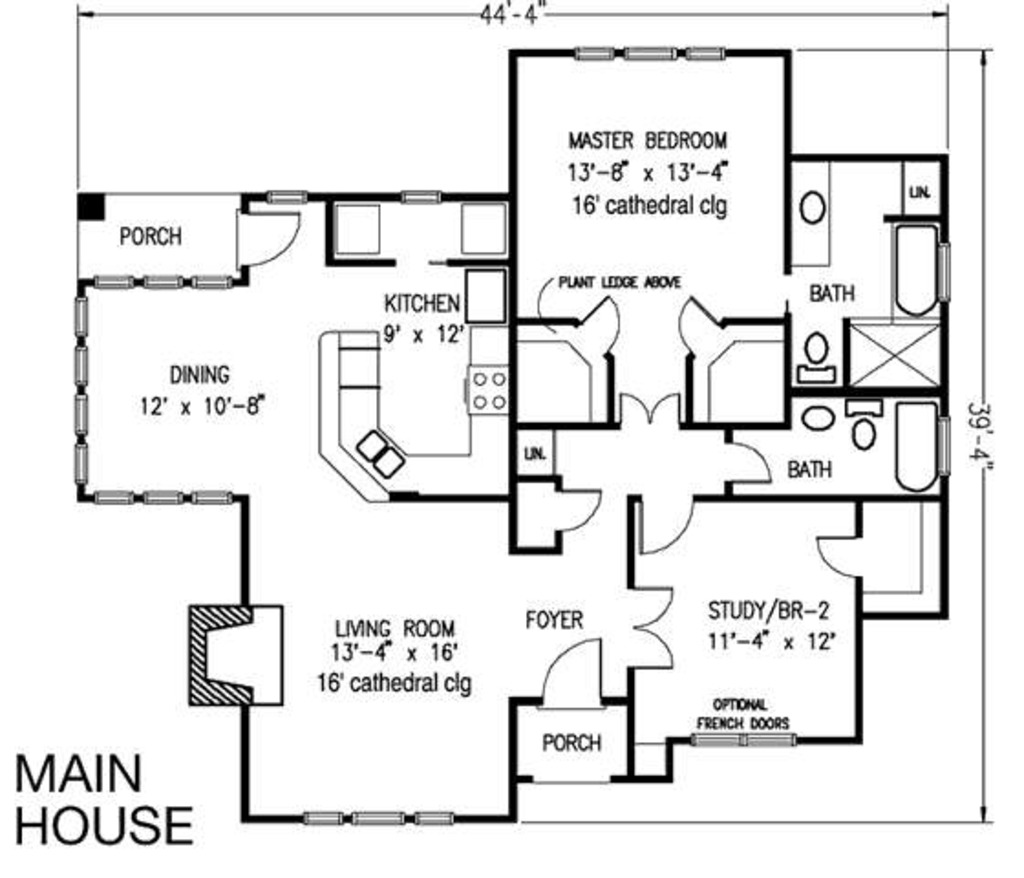door: (532, 633, 608, 711), (230, 205, 306, 276), (625, 581, 677, 672), (630, 489, 696, 557), (576, 291, 634, 356), (678, 294, 727, 361), (614, 392, 687, 430), (815, 527, 865, 579), (729, 437, 782, 485), (556, 483, 605, 534)
large_sink: (789, 321, 843, 388), (847, 397, 887, 454)
small_sink: (788, 161, 835, 267), (790, 394, 842, 435)
tub: (889, 399, 947, 494), (889, 220, 937, 319)
twin_sink: (348, 421, 409, 485)
window: (93, 482, 236, 517), (572, 36, 729, 66), (299, 805, 455, 830), (93, 270, 234, 291), (695, 724, 799, 752), (263, 186, 318, 211), (400, 191, 444, 203)
